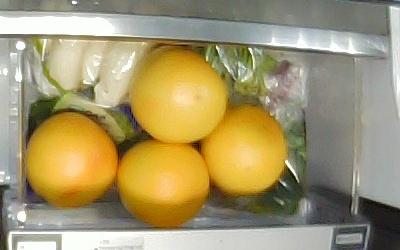grapefruit: (130, 47, 227, 144), (24, 113, 118, 207), (116, 139, 210, 229), (198, 106, 286, 194)
